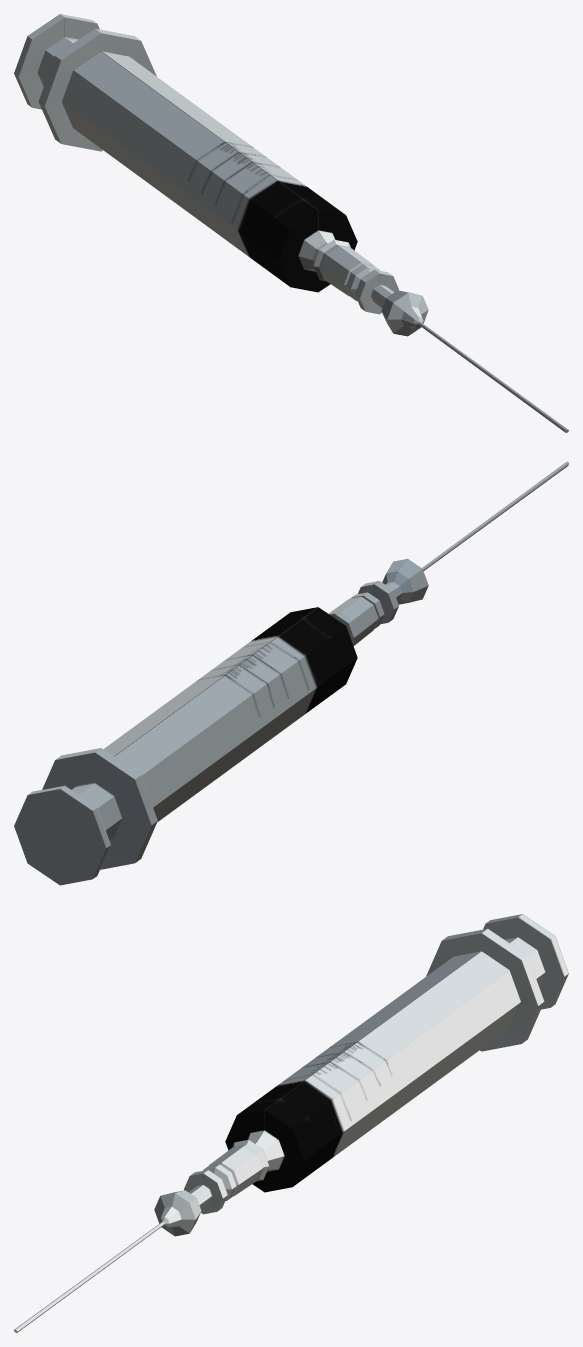
Rendered from seringa.fbx.
3 views of the same model, one above another, from view 1: azimuth 30°, elevation 25°; view 2: azimuth 150°, elevation 25°; view 3: azimuth 330°, elevation 25° (orthographic).
Visible parts, largest first — view 1: seringa; view 2: seringa; view 3: seringa.
Boxes of the visible parts, <box> form: seringa: <box>14,14,568,432</box>; seringa: <box>14,461,568,885</box>; seringa: <box>14,914,568,1332</box>.
Size of the model in its own units: 44.73 by 44.73 by 348.
1 material, 1 textured.
